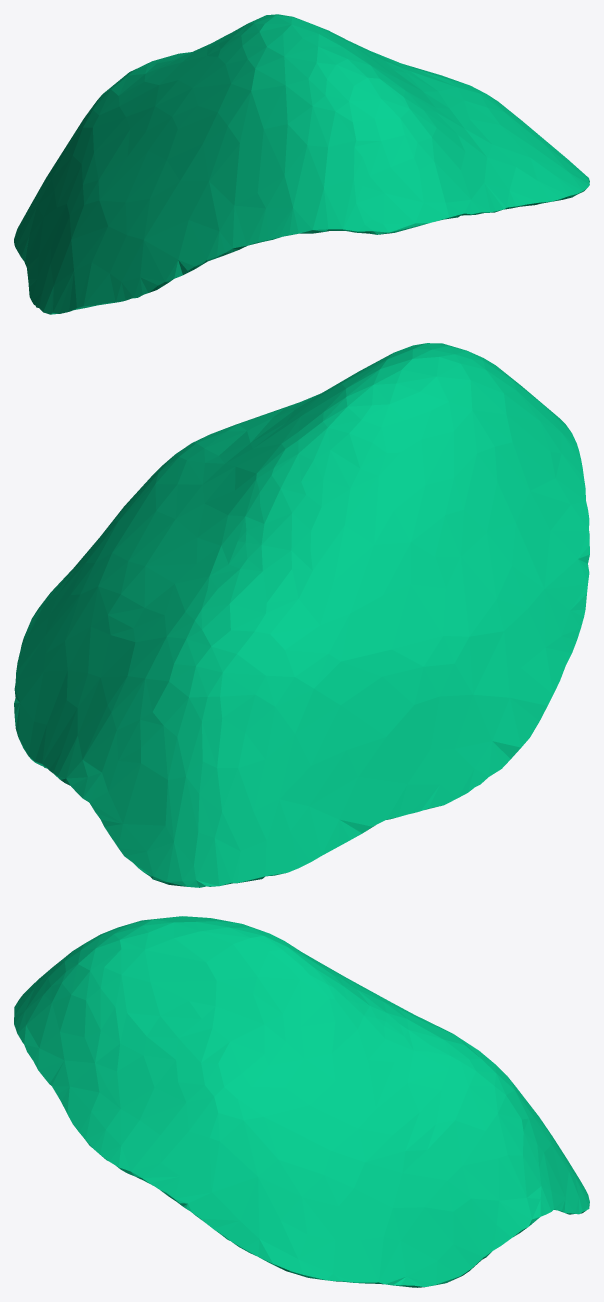
The model's file is green-jug.glb.
3 renders of one model, top to bottom at view 1: azimuth 30°, elevation 25°; view 2: azimuth 150°, elevation 25°; view 3: azimuth 270°, elevation 25°, orthographic. The views are drawn at different scales.
Parts seen in each view (by area): view 1: decimated.ply; view 2: decimated.ply; view 3: decimated.ply.
Part boxes in pixels (x1,y1,x2,y2): decimated.ply: [14, 14, 589, 314]; decimated.ply: [14, 343, 589, 887]; decimated.ply: [14, 916, 589, 1287].
Size of the model in its own units: 1.63 by 1.08 by 1.99.
